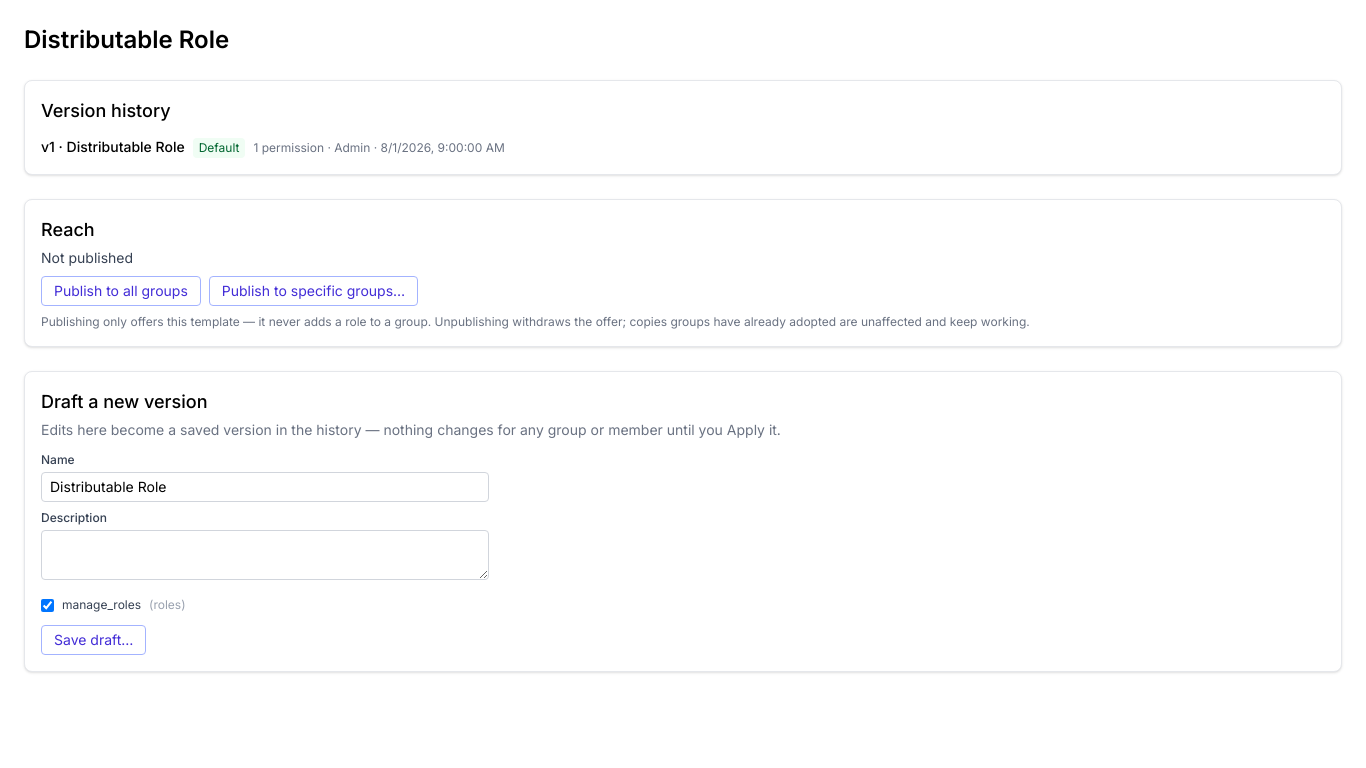
it: FEAT-H044 STORY-3 — the reach section › W5: a search narrows the list without losing what is already chosen
The width and height of the screenshot is (1366, 768).
Click the button "Publish to specific groups…".
click(313, 291)  # box [209,276,418,306]
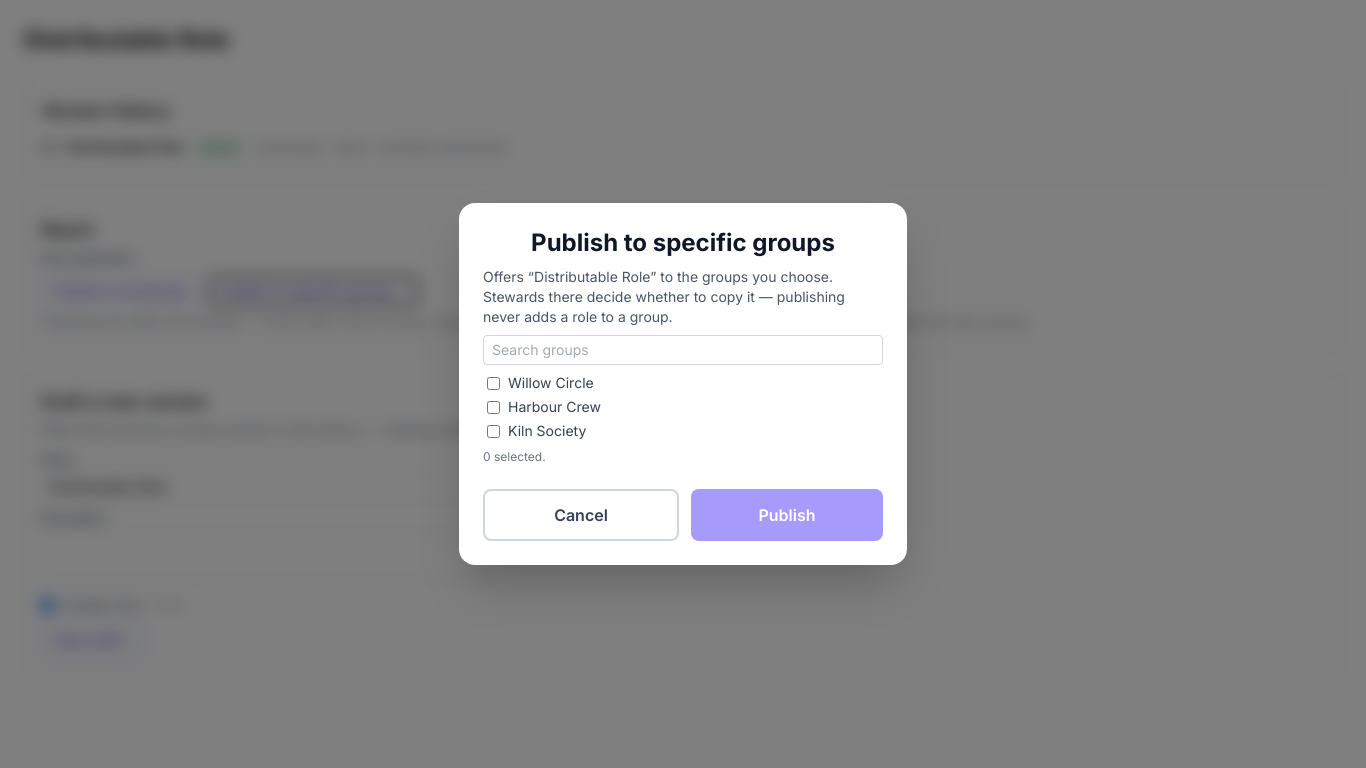
Result: the text "Willow Circle" is shown
Click the label with test id "group-option-grp-1".
click(540, 382)  # box [487,374,594,391]
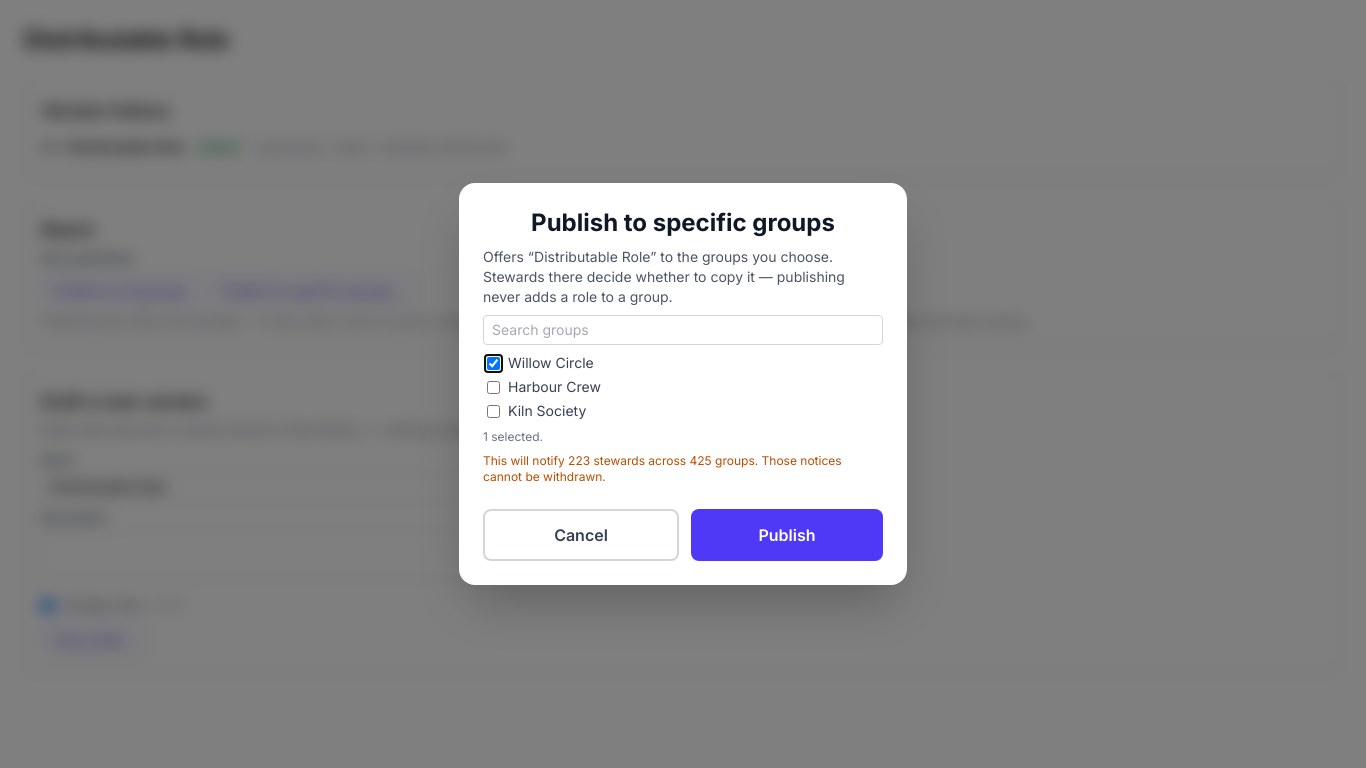
Type "harbour" into the field with test id "group-search".
click(683, 330); type("harbour")  # box [483,315,883,345]
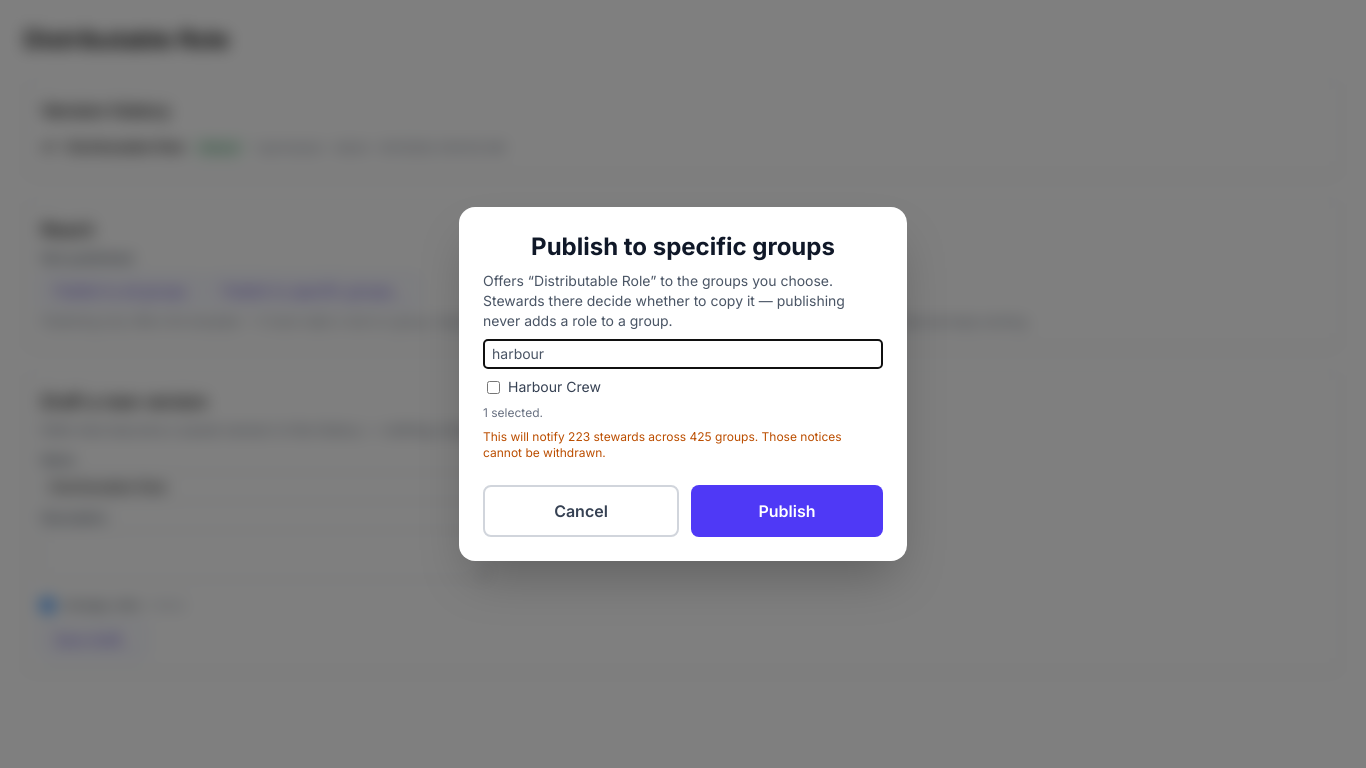
Result: the text "Harbour Crew" is shown at [487,378,601,395]
Result: the button with test id "confirm-modal-confirm" is enabled at [691,485,883,537]
Result: the label with test id "group-option-grp-1" is gone
